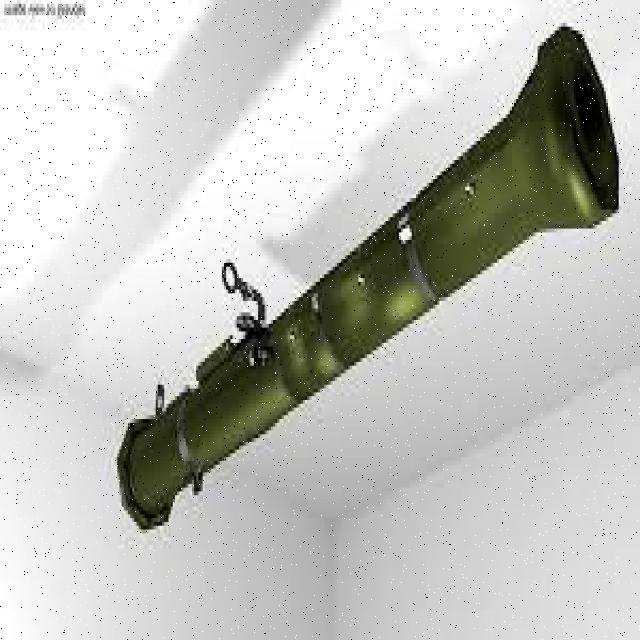bazooka: (110, 1, 629, 552)
